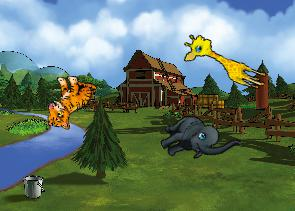elephant: (153, 97, 242, 181)
giraffe: (178, 30, 273, 92)
tiger: (44, 72, 97, 132)
